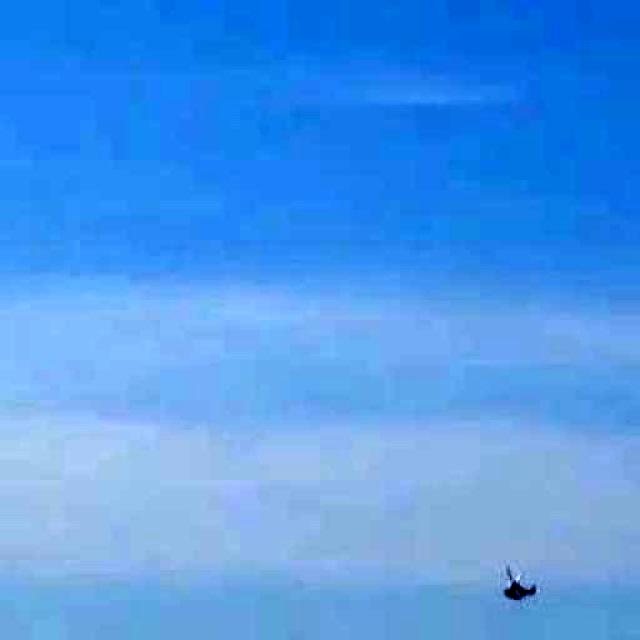drone: (480, 541, 556, 622)
